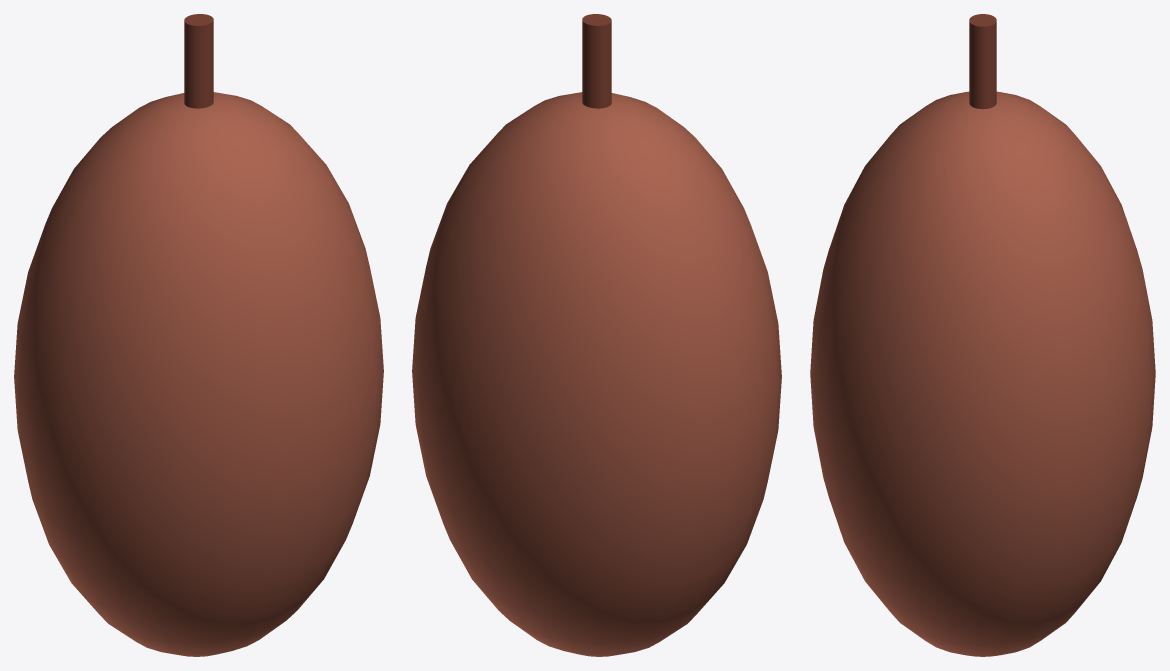
Rendered from wp-echalote.glb.
3 views of the same model, side by side, from view 1: azimuth 30°, elevation 25°; view 2: azimuth 150°, elevation 25°; view 3: azimuth 270°, elevation 25° (orthographic).
Visible parts, largest first — view 1: wp-echalote; view 2: wp-echalote; view 3: wp-echalote.
Part boxes in pixels (box(x1,y1,x2,y2)): wp-echalote: box(14, 14, 383, 656); wp-echalote: box(412, 14, 781, 656); wp-echalote: box(810, 14, 1155, 656).
Size of the model in its own units: 0.06 by 0.11 by 0.055.
